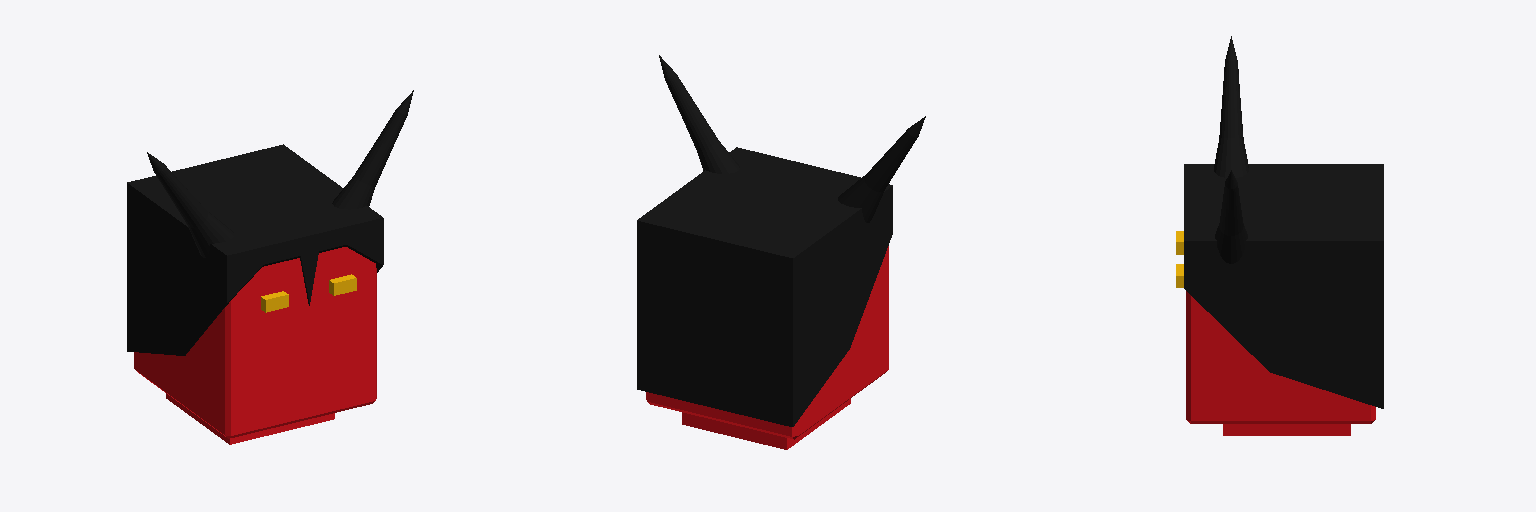
The picture shows the model from 3 angles: view 1: azimuth 30°, elevation 25°; view 2: azimuth 150°, elevation 25°; view 3: azimuth 270°, elevation 25°; orthographic projection.
Parts seen in each view (by area): view 1: cube17, cube16, cylinder18, cylinder19, cube29; view 2: cube17, cube16, cylinder18, cylinder19, cube29; view 3: cube17, cube16, cylinder19, cylinder18, cube29.
Boxes of the visible parts, x1,y1,x2,y2 form: cube17: [127, 144, 383, 355]; cube16: [134, 247, 376, 438]; cylinder18: [332, 90, 413, 209]; cylinder19: [147, 152, 233, 257]; cube29: [166, 393, 334, 444]; cube17: [637, 147, 892, 426]; cube16: [646, 246, 888, 439]; cylinder18: [659, 55, 739, 173]; cylinder19: [838, 116, 925, 222]; cube29: [682, 399, 850, 449]; cube17: [1184, 164, 1383, 408]; cube16: [1186, 291, 1375, 423]; cylinder19: [1214, 36, 1248, 177]; cylinder18: [1215, 170, 1247, 263]; cube29: [1223, 424, 1350, 435].
Bounding box in the file's own units: 35.18 × 38.94 × 23.66.
3 materials, 3 textured.